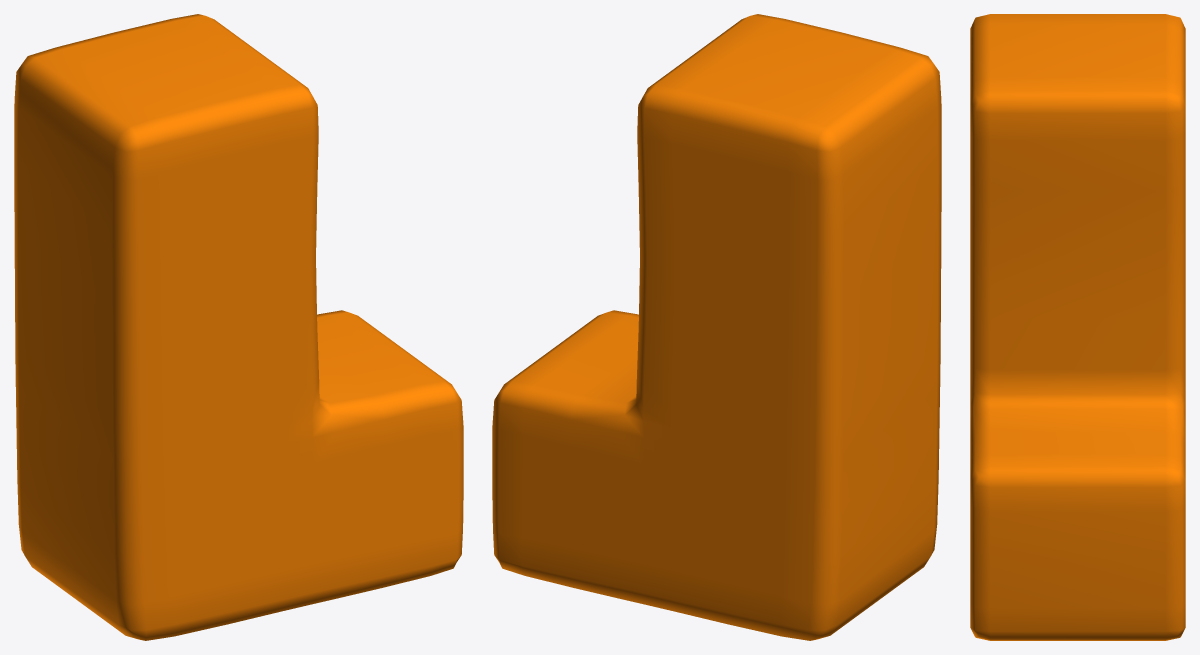
3 renders of one model, left to right at view 1: azimuth 30°, elevation 25°; view 2: azimuth 150°, elevation 25°; view 3: azimuth 270°, elevation 25°, orthographic. The views are drawn at different scales.
Parts seen in each view (by area): view 1: LETTER_L; view 2: LETTER_L; view 3: LETTER_L.
Boxes of the visible parts, x1,y1,x2,y2 form: LETTER_L: [14, 14, 463, 640]; LETTER_L: [492, 14, 941, 640]; LETTER_L: [970, 14, 1185, 640].
Bounding box in the file's own units: 0.6947 × 1 × 0.3991.
